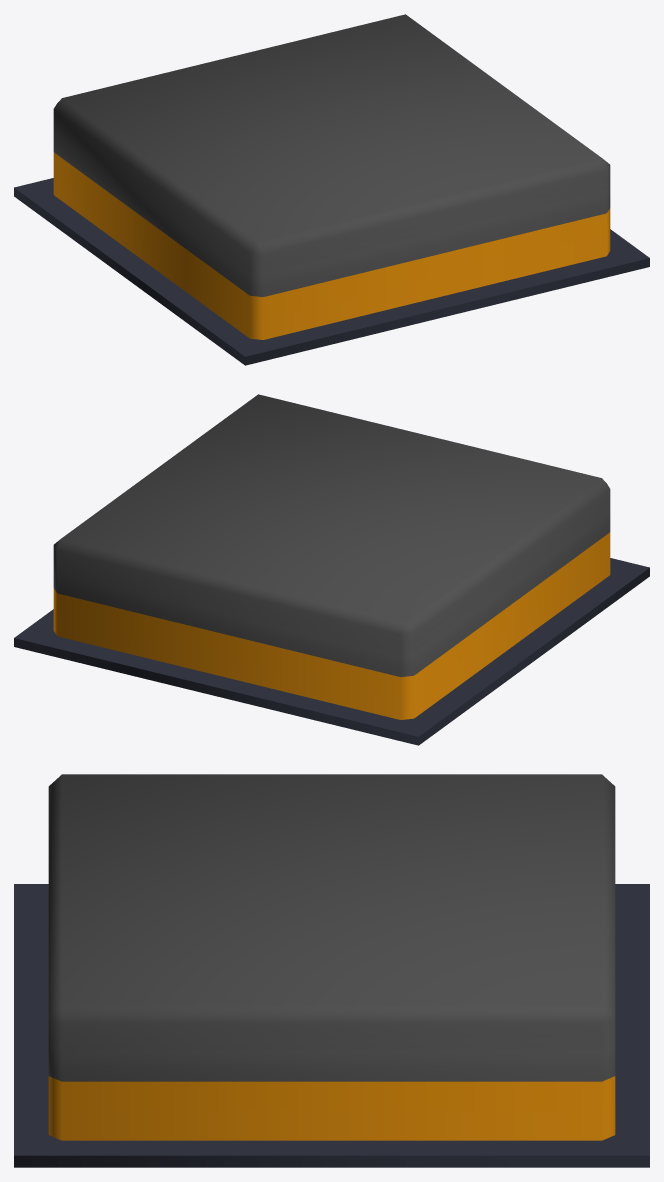
Rendered from RoofAdd_2_C_1.fbx.
3 renders of one model, top to bottom at view 1: azimuth 30°, elevation 25°; view 2: azimuth 150°, elevation 25°; view 3: azimuth 270°, elevation 25°, orthographic. The views are drawn at different scales.
Visible parts, largest first — view 1: RoofAdd_2_C_1; view 2: RoofAdd_2_C_1; view 3: RoofAdd_2_C_1.
Boxes of the visible parts, x1,y1,x2,y2 form: RoofAdd_2_C_1: (14,14,649,365); RoofAdd_2_C_1: (14,394,649,745); RoofAdd_2_C_1: (14,774,649,1167).
Bounding box in the file's own units: 303 × 74.17 × 300.
